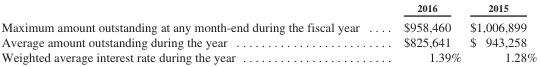table: (0, 1, 536, 63)
table column: (0, 1, 380, 63), (380, 1, 464, 63), (464, 1, 536, 63)
table column header: (0, 1, 536, 16)
table row: (0, 16, 536, 34), (0, 1, 536, 16), (0, 34, 536, 49), (0, 49, 536, 63)
